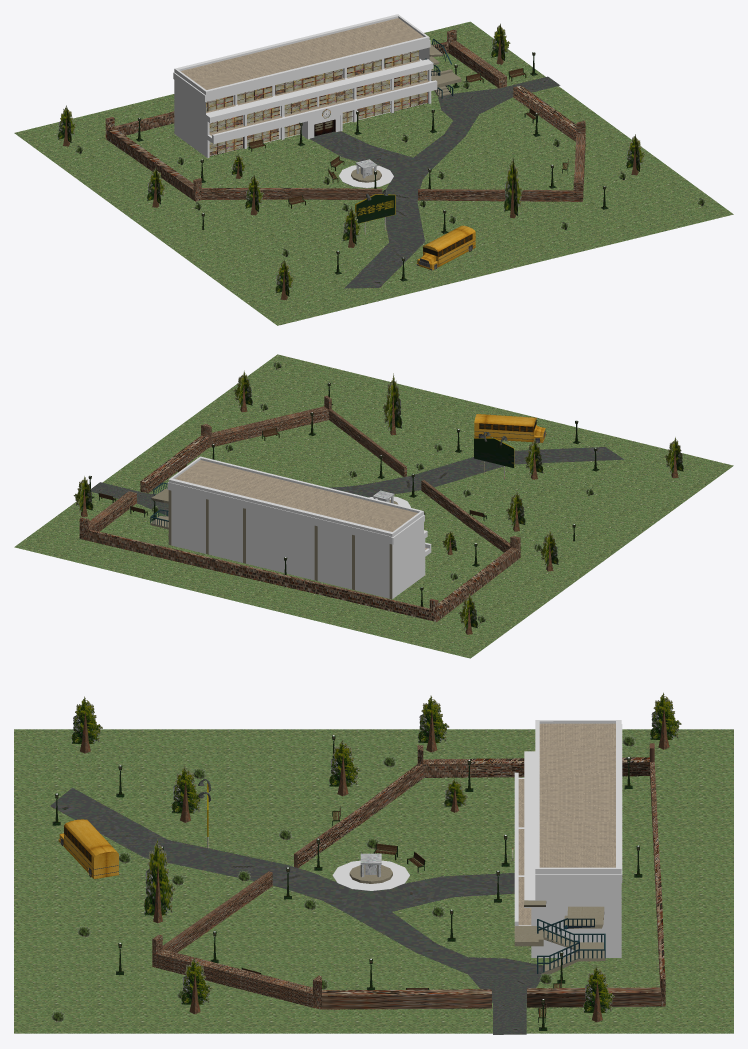
The model's file is escenario.fbx.
3 views of the same model, one above another, from view 1: azimuth 30°, elevation 25°; view 2: azimuth 150°, elevation 25°; view 3: azimuth 270°, elevation 25° (orthographic). The views are drawn at different scales.
Visible parts, largest first — view 1: planta central, Base escuela, Barrera Escuela, Camino, Camion, Letrero, escaleras, ventanas.004, Arboles1.007, ventanas.002, ventanas.007, ventanas.003 (+5 smaller); view 2: planta central, Base escuela, Barrera Escuela, Camino, Camion, Letrero, Arboles1.007, escaleras, Arboles1.008; view 3: planta central, Base escuela, Barrera Escuela, Camino, escaleras, Camion, Arboles1.007, Jardin Exterior, Arboles1.008, Arboles1.009, Arboles1.001, Arboles1.005 (+3 smaller).
Boxes of the visible parts, x1,y1,x2,y2 form: planta central: (14,21,733,325); Base escuela: (173,14,437,157); Barrera Escuela: (105,29,585,201); Camino: (310,76,560,288); Camion: (416,225,475,270); Letrero: (355,190,395,235); escaleras: (425,38,461,98); ventanas.004: (209,92,427,155); Arboles1.007: (503,157,523,218); ventanas.002: (209,70,427,133); ventanas.007: (237,59,381,103); ventanas.003: (247,79,390,123); planta central: (14,354,733,658); Base escuela: (167,456,431,599); Barrera Escuela: (79,395,520,621); Camino: (91,447,624,516); Camion: (474,414,546,443); Letrero: (474,431,514,479); Arboles1.007: (382,373,402,435); escaleras: (150,482,168,529); Arboles1.008: (233,370,252,412); planta central: (14,729,733,1033); Base escuela: (514,720,622,957); Barrera Escuela: (152,743,665,1009); Camino: (50,787,543,1034); escaleras: (514,900,605,974); Camion: (58,819,118,878); Arboles1.007: (143,839,175,923); Jardin Exterior: (332,860,409,890); Arboles1.008: (181,957,212,1013); Arboles1.009: (583,965,614,1022); Arboles1.001: (329,739,360,796); Arboles1.005: (417,695,449,752).
Size of the model in its own units: 4879 by 720 by 4858.
